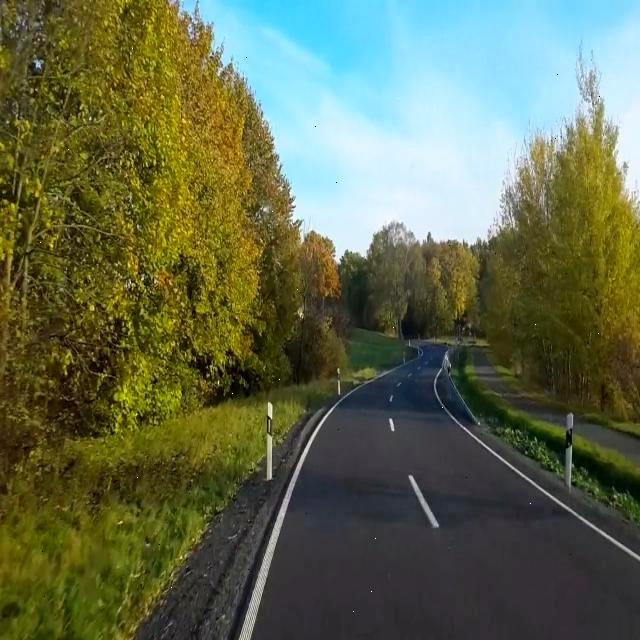lane: (434, 371, 640, 562), (238, 388, 357, 639), (409, 475, 439, 528), (389, 418, 395, 431)
road: (253, 345, 640, 639)
